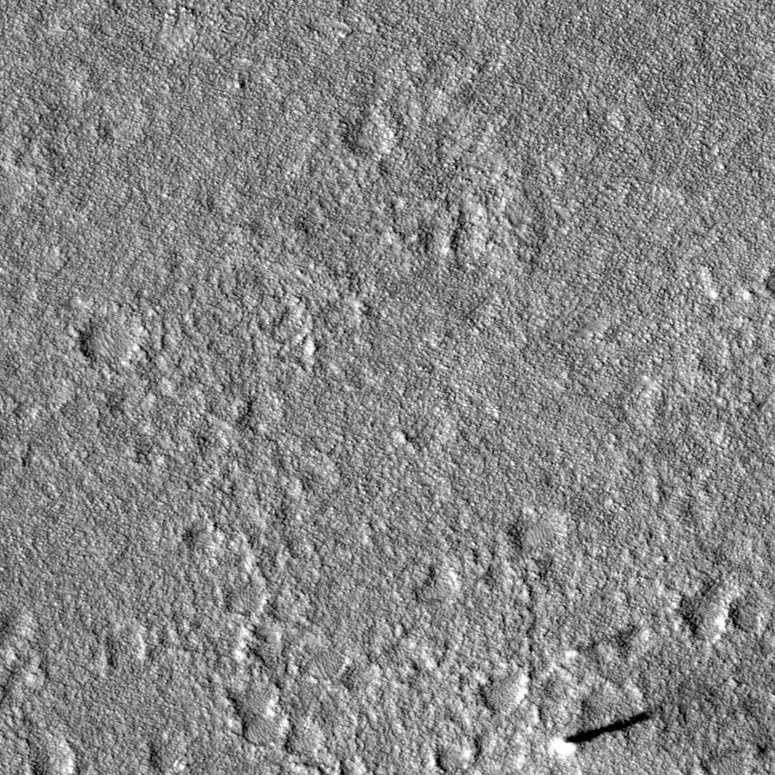dust_devil: (546, 710, 654, 762), (563, 628, 635, 662)
